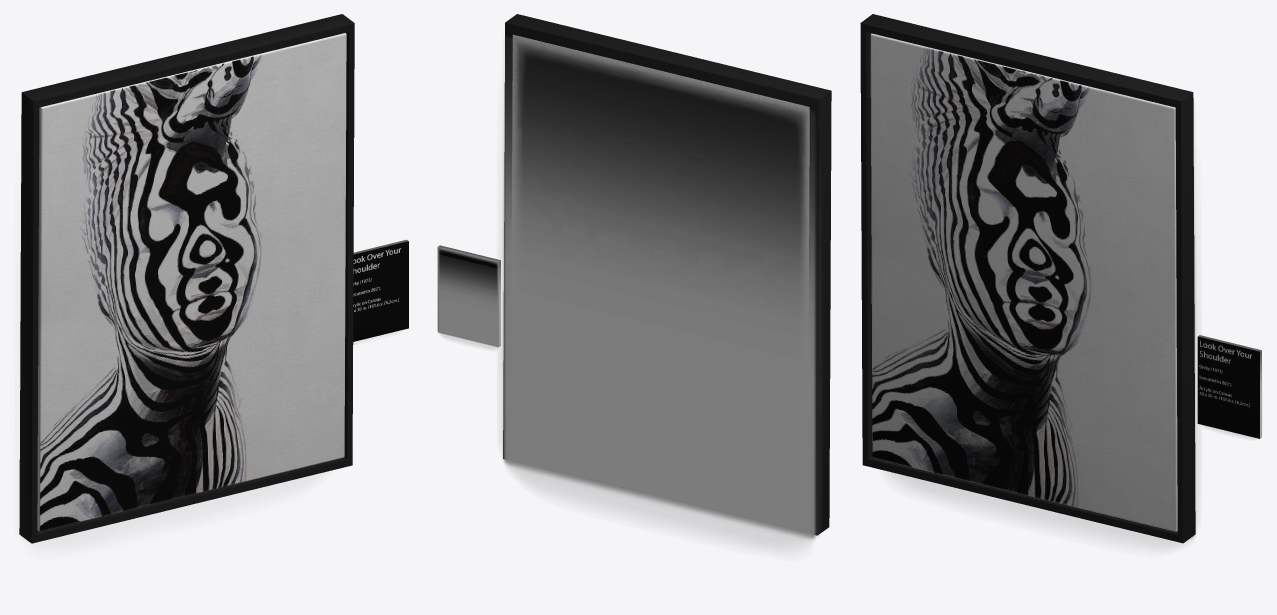
The model's file is kris.glb.
3 renders of one model, left to right at view 1: azimuth 30°, elevation 25°; view 2: azimuth 150°, elevation 25°; view 3: azimuth 330°, elevation 25°, orthographic. The views are drawn at different scales.
Parts seen in each view (by area): view 1: Canvas, frame, Obj_Canvas, Plane003; view 2: Plane003, Canvas, frame, Plane004, Obj_Canvas; view 3: Canvas, frame, Obj_Canvas, Plane003.
Part boxes in pixels (<box>): Canvas: <box>37,33,346,531</box>; frame: <box>19,14,354,543</box>; Obj_Canvas: <box>353,239,408,341</box>; Plane003: <box>19,224,327,550</box>; Plane003: <box>499,50,817,551</box>; Canvas: <box>512,34,809,287</box>; frame: <box>503,14,831,535</box>; Plane004: <box>438,255,498,349</box>; Obj_Canvas: <box>437,245,500,346</box>; Canvas: <box>870,33,1177,531</box>; frame: <box>860,14,1195,543</box>; Obj_Canvas: <box>1197,335,1261,438</box>; Plane003: <box>888,150,1198,548</box>.
Size of the model in its own units: 9.8 by 12.14 by 0.6285.
Materials: 3 (2 with a texture image).
